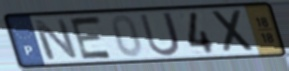0: (109, 14, 146, 59)
4: (186, 10, 217, 56)
E: (68, 14, 116, 61)
N: (30, 17, 81, 61)
U: (137, 10, 183, 58)
X: (209, 8, 258, 55)
